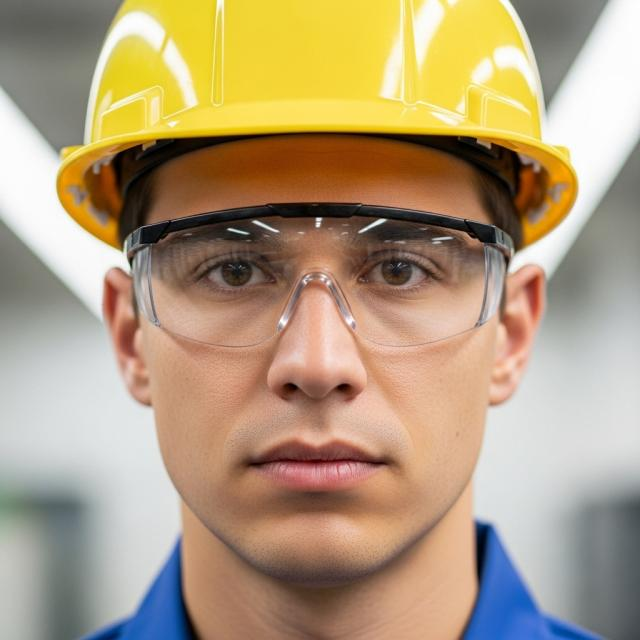oculos-epi: (125, 203, 511, 348)
